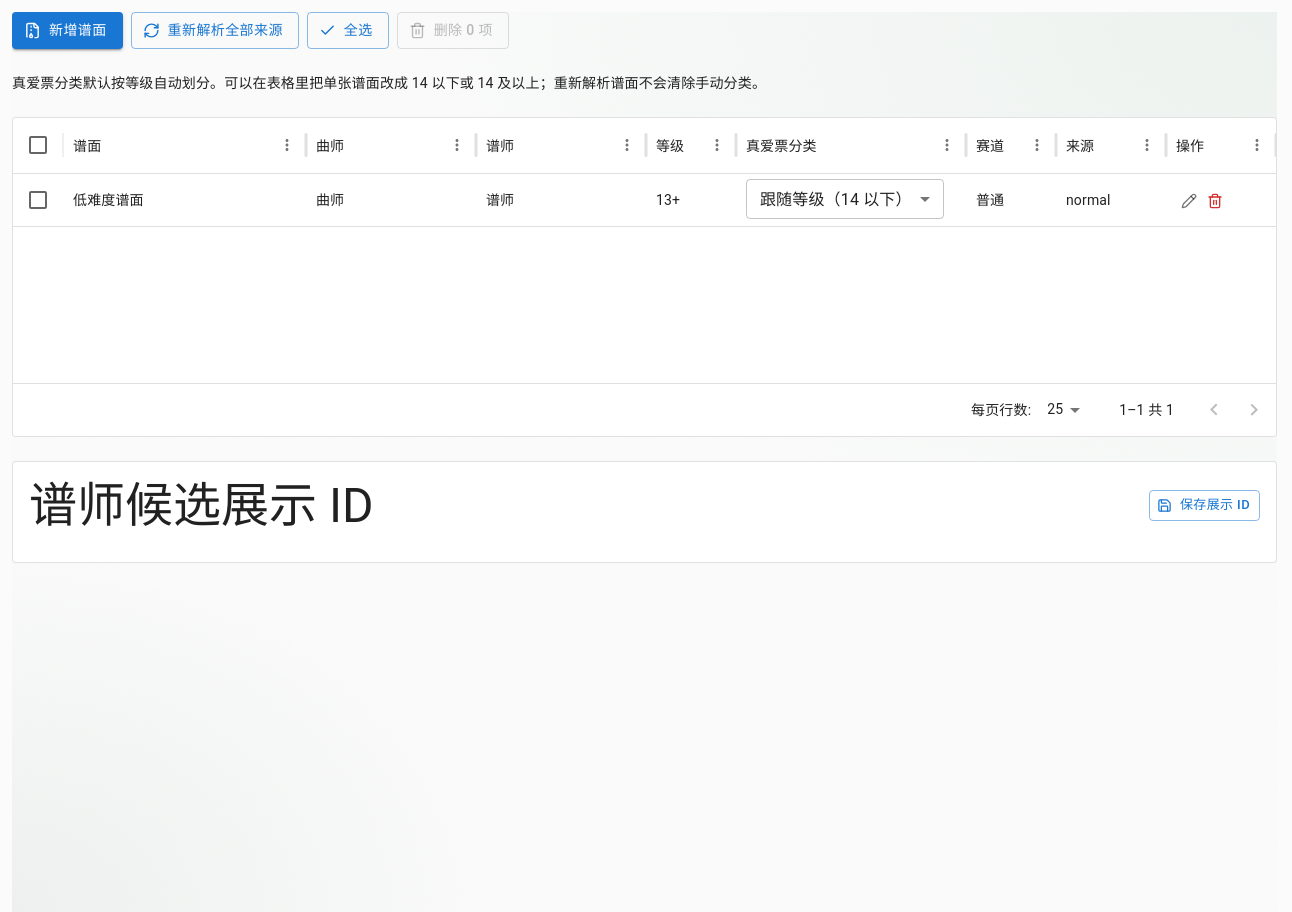
AdminGuess › saves a manual true-love bucket for one chart
Press the mouse on the dropdown named "真爱票分类 低难度谱面 13+" at (836, 199), box [760, 190, 912, 208]
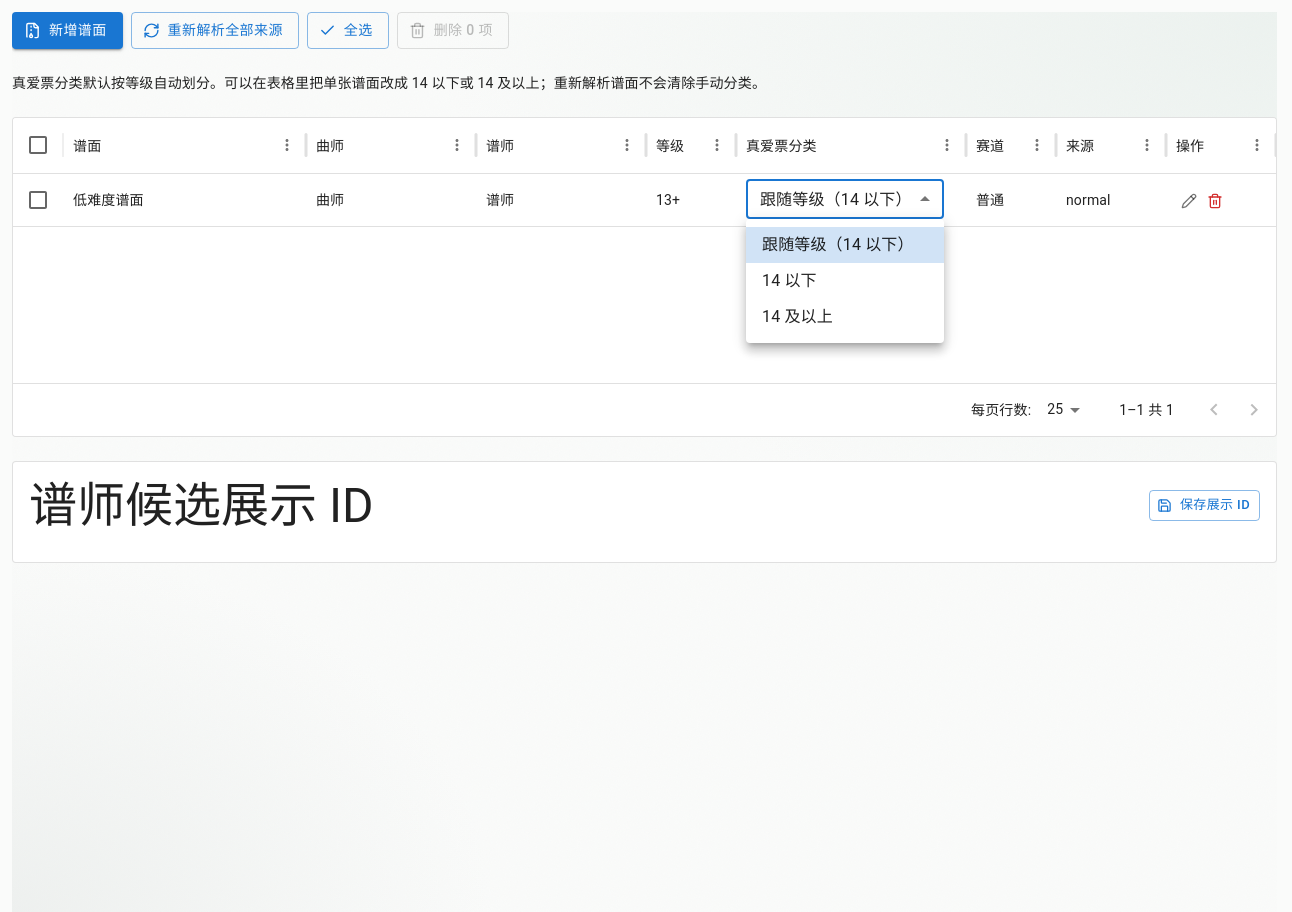
Click the option "14 及以上" at (797, 316), box [762, 307, 833, 326]
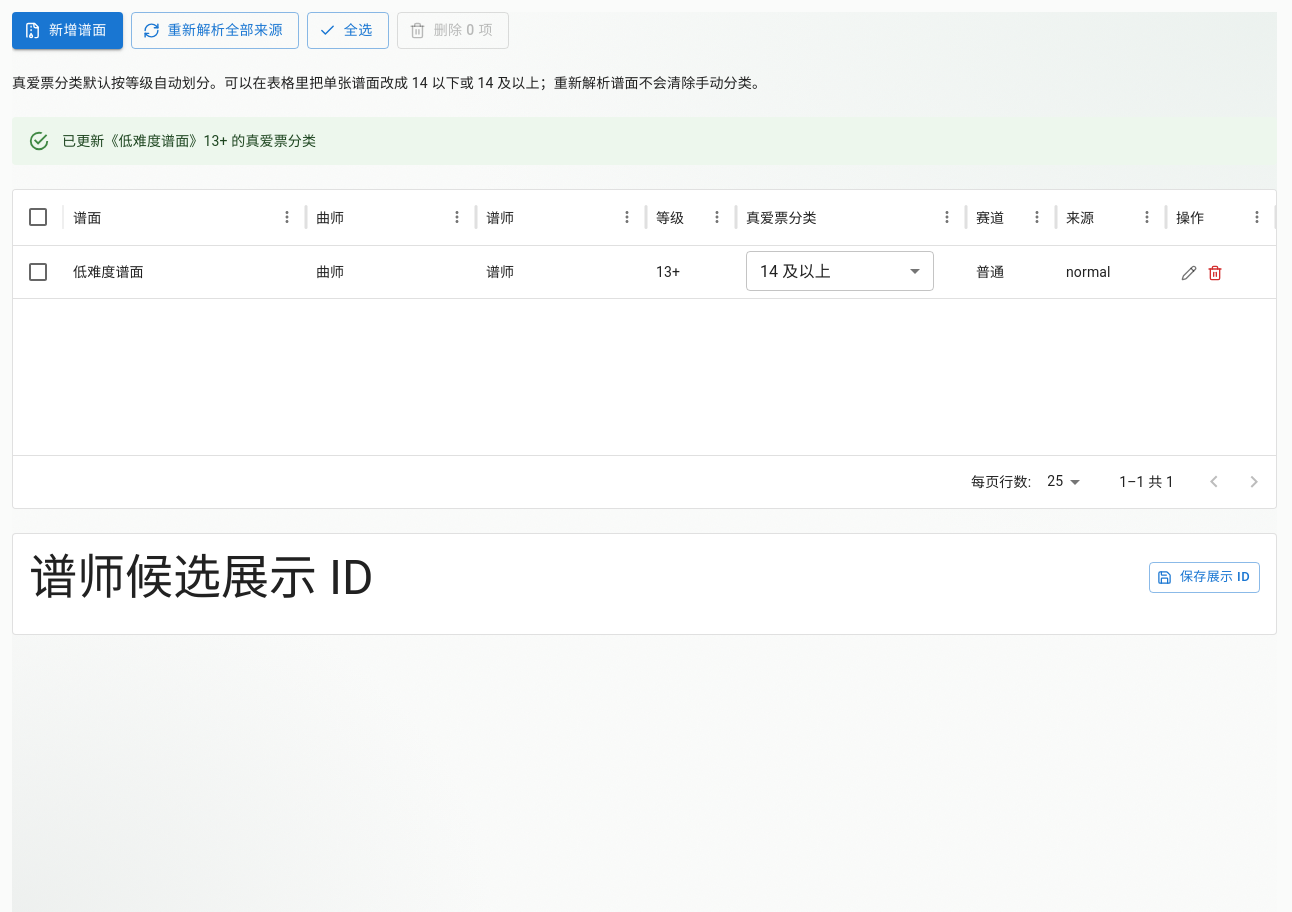
Result: the text "已更新《低难度谱面》13+ 的真爱票分类" is shown at [62, 132, 316, 148]
Result: the dropdown named "真爱票分类 低难度谱面 13+" reads "14 及以上" at [760, 262, 831, 280]
